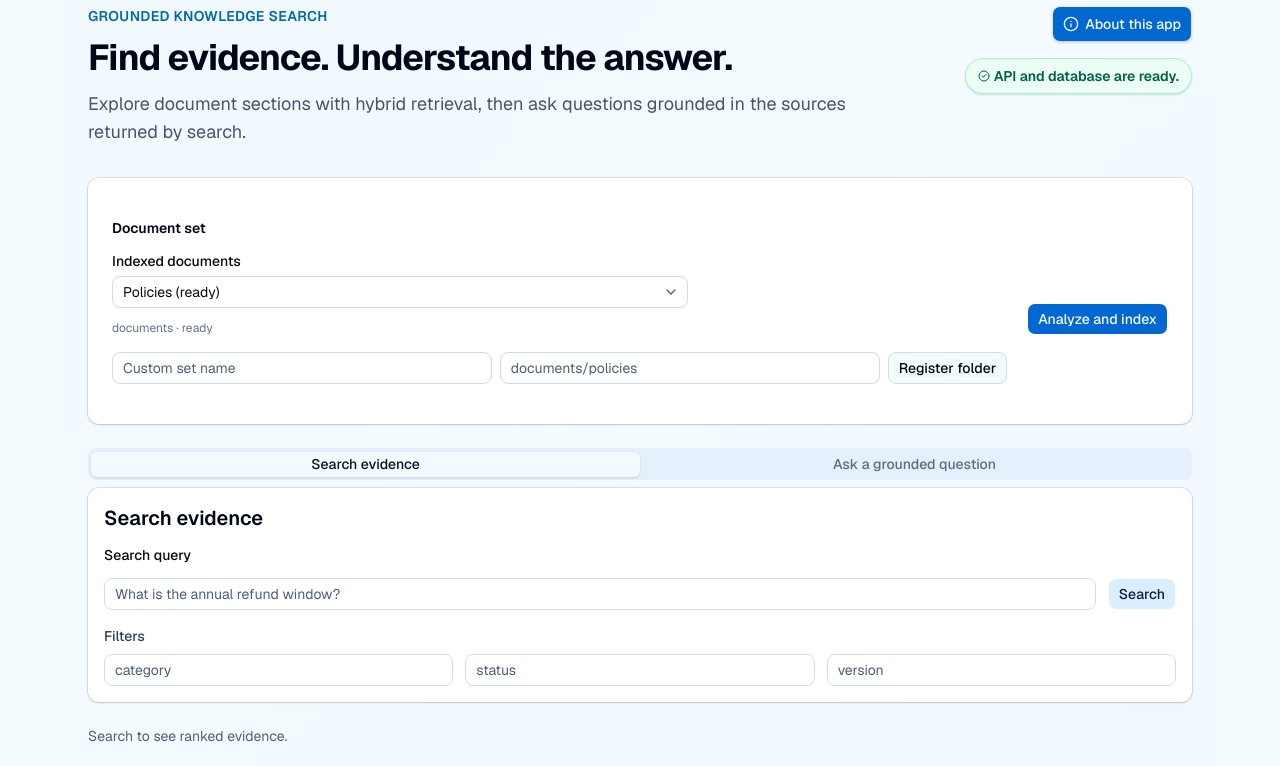
Test: KnowledgeSearchApp › asks a question and renders cited sources
The image size is (1280, 766).
Expected: the dropdown named "Indexed documents" is shown, [112, 276, 688, 308]
Step 1. Click the tab "Ask a grounded question" → (914, 464), box [640, 452, 1189, 476]
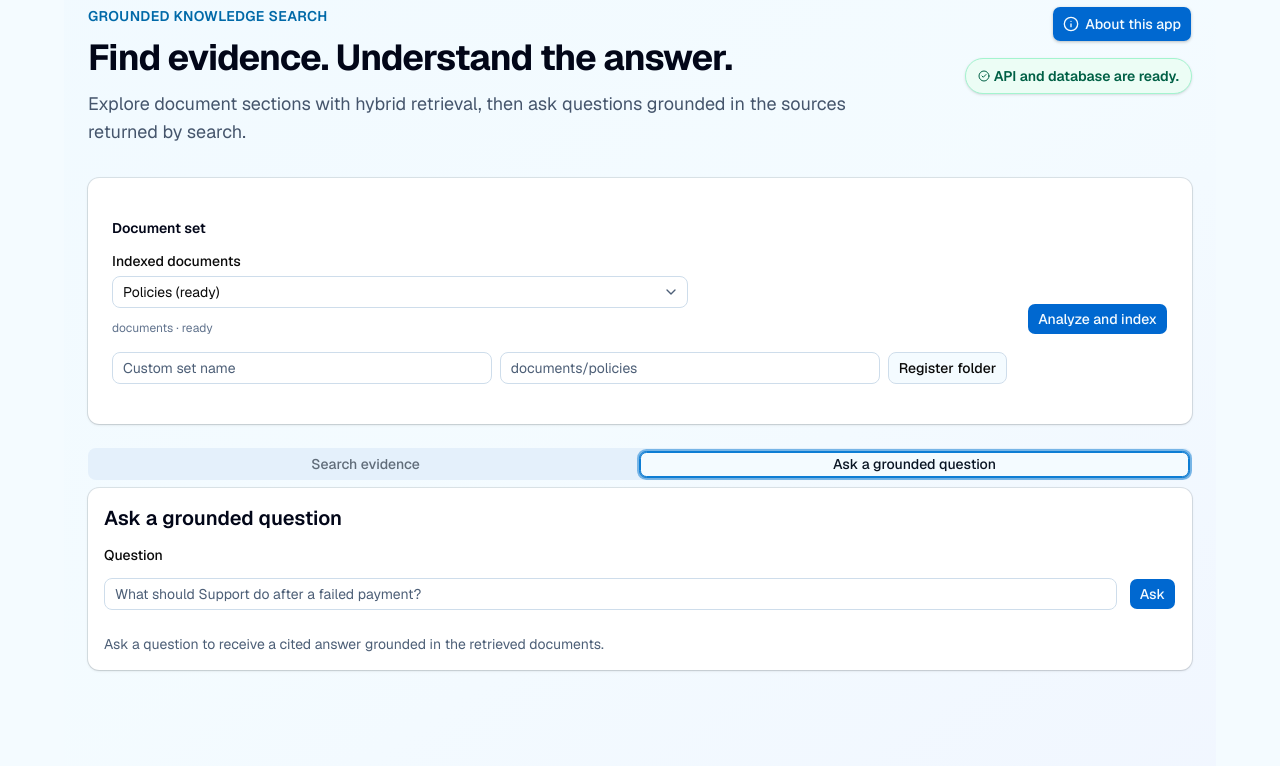
Step 2. Type "What is the refund rule?" into the field labelled "Question" → (610, 594), box [104, 578, 1117, 610]
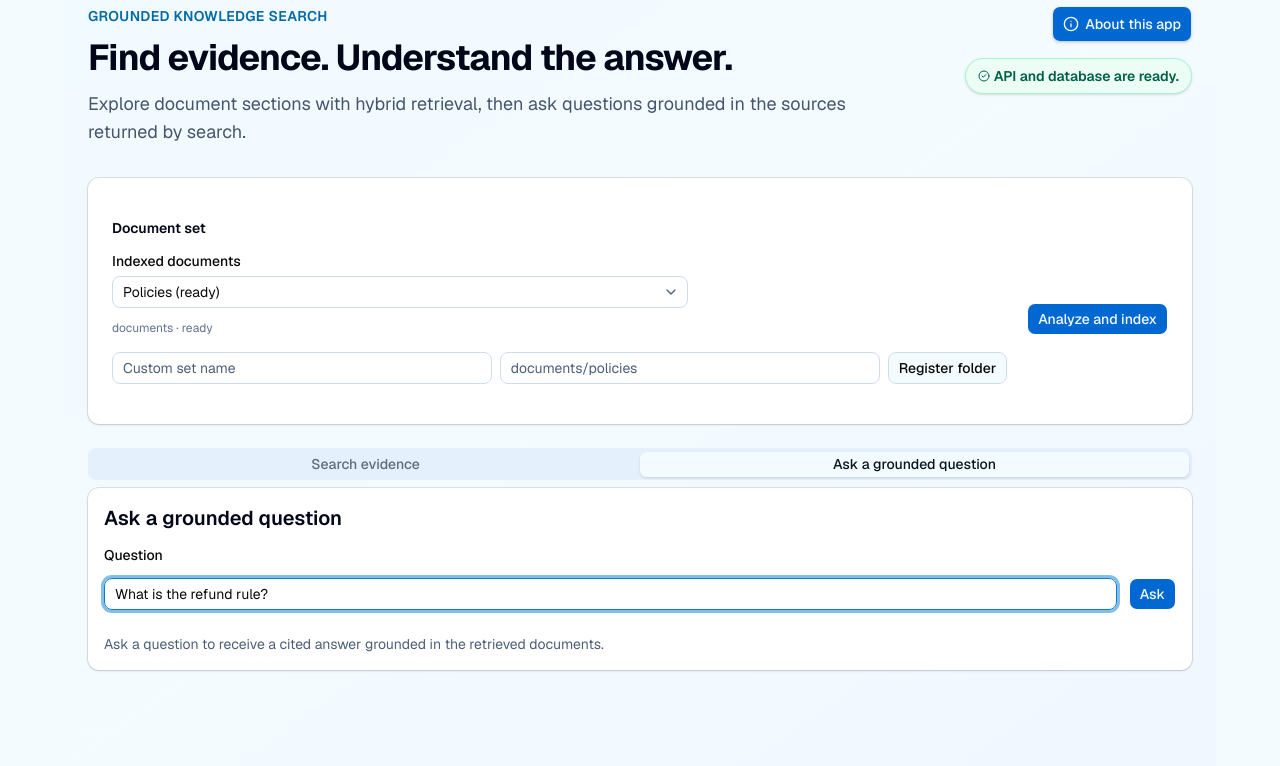
Step 3. Click the button "Ask" → (1152, 594), box [1129, 578, 1176, 610]
(page scrolled)
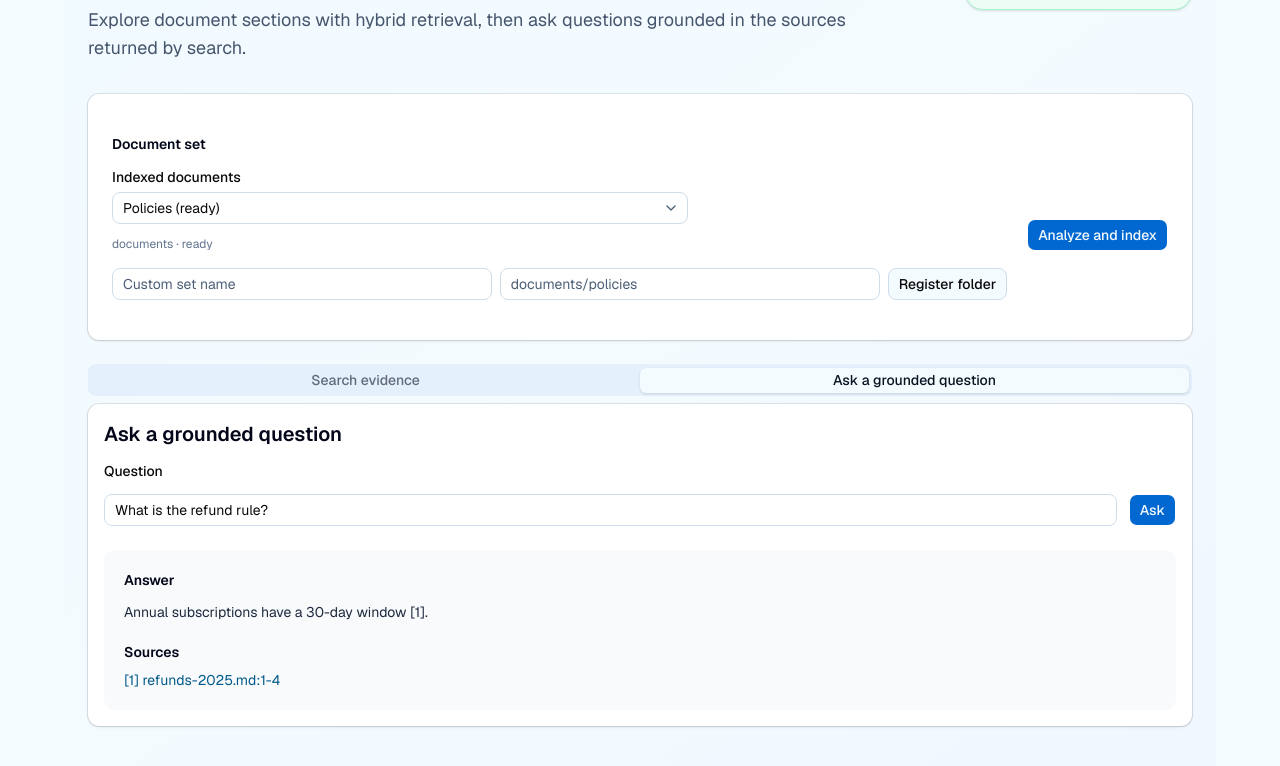
Result: the text "Annual subscriptions have a 30-day window [1]." is shown at [124, 603, 428, 621]
Step 4. Click the button "[1] refunds-2025.md:1-4" → (202, 680), box [124, 670, 280, 690]
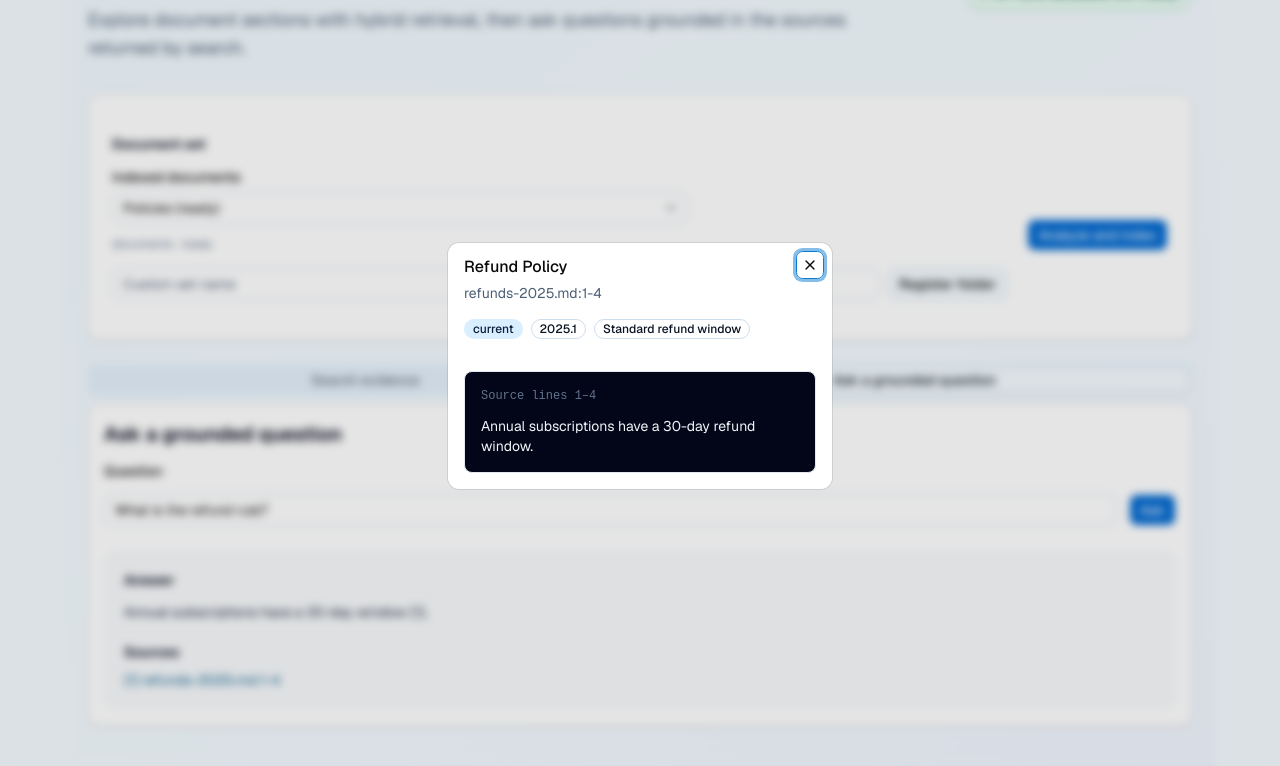
Result: the dialog is shown at [448, 243, 832, 489]
Step 5. Click the button named "Close" → (810, 265), box [796, 251, 824, 279]
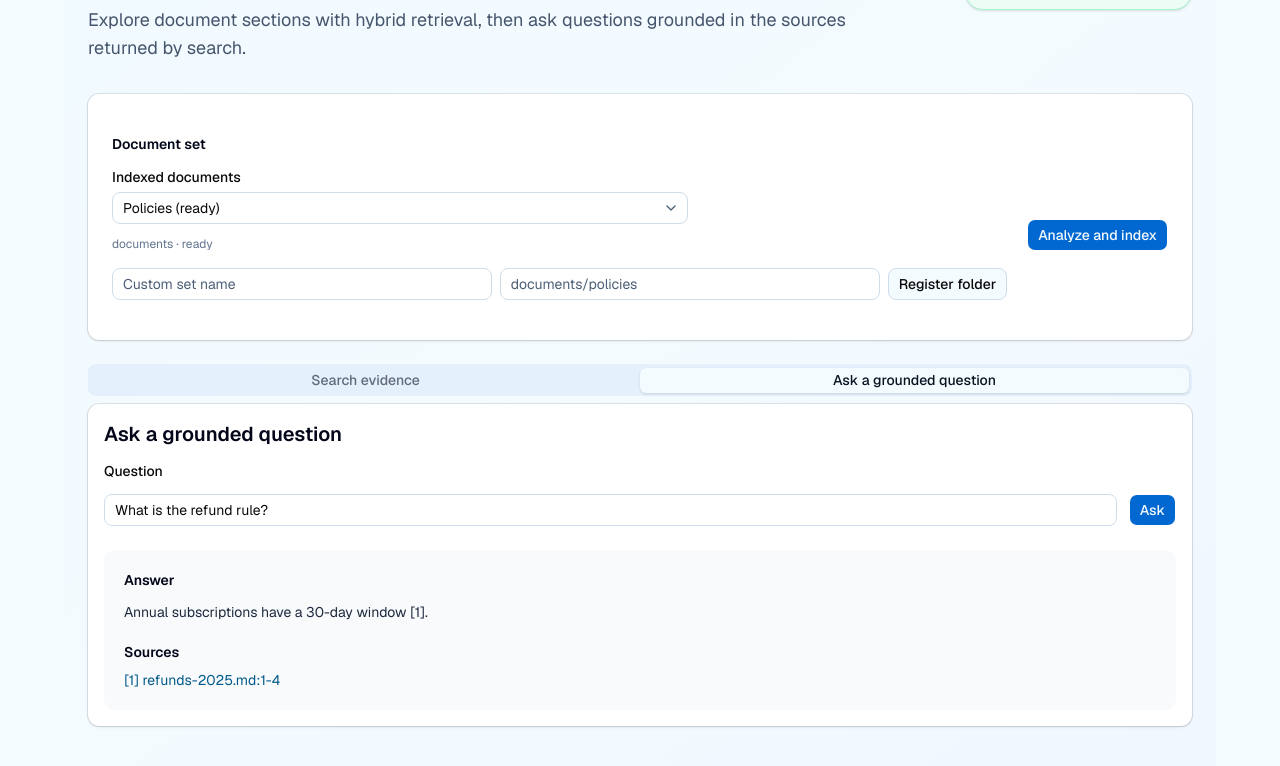
Result: the dialog is gone
